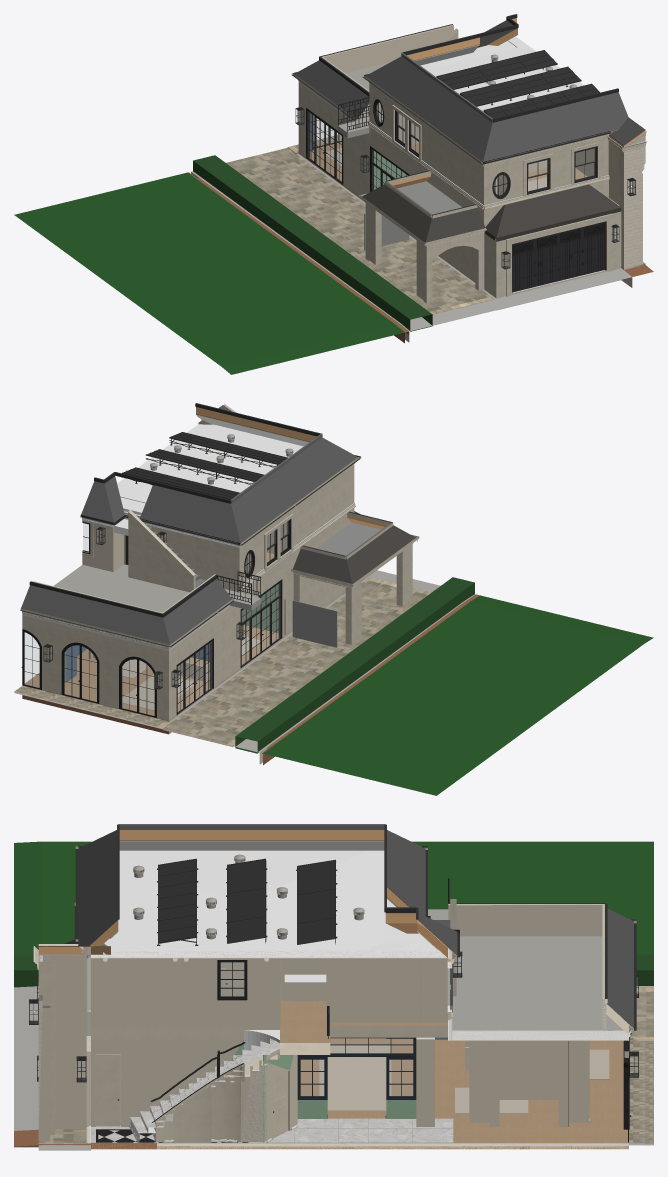
File: elevation-west-c9263cac64f2.glb
The picture shows the model from 3 angles, top to bottom: view 1: azimuth 30°, elevation 25°; view 2: azimuth 150°, elevation 25°; view 3: azimuth 270°, elevation 25°; orthographic projection. The views are drawn at different scales.
Visible parts, largest first — view 1: elevation-west-aee2d046b0172b1e, elevation-west-27d577fbd7f2ff4b, elevation-west-2d4e160723097ac3, elevation-west-25c3ff3929e46046, elevation-west-0cae3eb2f2d52fad, elevation-west-2f311b438f02a7c5, elevation-west-a9e726e5451ff895, elevation-west-8ae50a6395ceb8a4, elevation-west-312b4ac1be39223d, elevation-west-039192b0560cfac3, elevation-west-df3e1f21720b0c39, elevation-west-32021a86c784f0e0 (+27 smaller); view 2: elevation-west-aee2d046b0172b1e, elevation-west-27d577fbd7f2ff4b, elevation-west-2d4e160723097ac3, elevation-west-969b861f9850351e, elevation-west-0cae3eb2f2d52fad, elevation-west-d56ee2a9d54b1fc2, elevation-west-5febae1537653d02, elevation-west-312b4ac1be39223d, elevation-west-039192b0560cfac3, elevation-west-ded88bd99590d377, elevation-west-7511cdbc362aca5e, elevation-west-3b0077416469e01b (+29 smaller); view 3: elevation-west-aee2d046b0172b1e, elevation-west-d56ee2a9d54b1fc2, elevation-west-ded88bd99590d377, elevation-west-746250f96522f643, elevation-west-3b0077416469e01b, elevation-west-85f0fd939e0fcc78, elevation-west-7f59123d155b94ce, elevation-west-5e296beffb47d853, elevation-west-ed40dd465e6d599f, elevation-west-18b8f93424e26a44, elevation-west-2575515a05775d9e, elevation-west-871e2e831c6190fa (+51 smaller).
Part boxes in pixels (x1=…): elevation-west-aee2d046b0172b1e: x1=14, y1=172, x2=653, y2=374; elevation-west-27d577fbd7f2ff4b: x1=226, y1=148, x2=494, y2=314; elevation-west-2d4e160723097ac3: x1=193, y1=155, x2=432, y2=331; elevation-west-25c3ff3929e46046: x1=483, y1=92, x2=628, y2=161; elevation-west-0cae3eb2f2d52fad: x1=365, y1=56, x2=492, y2=161; elevation-west-2f311b438f02a7c5: x1=512, y1=221, x2=606, y2=292; elevation-west-a9e726e5451ff895: x1=496, y1=184, x2=621, y2=241; elevation-west-8ae50a6395ceb8a4: x1=191, y1=153, x2=632, y2=342; elevation-west-312b4ac1be39223d: x1=369, y1=83, x2=484, y2=204; elevation-west-039192b0560cfac3: x1=298, y1=83, x2=370, y2=195; elevation-west-df3e1f21720b0c39: x1=484, y1=136, x2=608, y2=205; elevation-west-32021a86c784f0e0: x1=322, y1=25, x2=453, y2=72; elevation-west-aee2d046b0172b1e: x1=22, y1=594, x2=653, y2=795; elevation-west-27d577fbd7f2ff4b: x1=163, y1=577, x2=431, y2=746; elevation-west-2d4e160723097ac3: x1=235, y1=577, x2=474, y2=753; elevation-west-969b861f9850351e: x1=22, y1=616, x2=165, y2=719; elevation-west-0cae3eb2f2d52fad: x1=231, y1=437, x2=357, y2=542; elevation-west-d56ee2a9d54b1fc2: x1=117, y1=424, x2=303, y2=503; elevation-west-5febae1537653d02: x1=21, y1=585, x2=169, y2=644; elevation-west-312b4ac1be39223d: x1=239, y1=464, x2=354, y2=586; elevation-west-039192b0560cfac3: x1=166, y1=606, x2=240, y2=720; elevation-west-ded88bd99590d377: x1=54, y1=564, x2=239, y2=612; elevation-west-7511cdbc362aca5e: x1=128, y1=510, x2=195, y2=592; elevation-west-3b0077416469e01b: x1=22, y1=636, x2=273, y2=721; elevation-west-aee2d046b0172b1e: x1=14, y1=841, x2=653, y2=1149; elevation-west-d56ee2a9d54b1fc2: x1=104, y1=850, x2=417, y2=949; elevation-west-ded88bd99590d377: x1=452, y1=936, x2=623, y2=1030; elevation-west-746250f96522f643: x1=91, y1=958, x2=280, y2=1027; elevation-west-3b0077416469e01b: x1=157, y1=1038, x2=628, y2=1143; elevation-west-85f0fd939e0fcc78: x1=91, y1=1039, x2=243, y2=1126; elevation-west-7f59123d155b94ce: x1=330, y1=958, x2=419, y2=1022; elevation-west-5e296beffb47d853: x1=55, y1=955, x2=86, y2=1129; elevation-west-ed40dd465e6d599f: x1=489, y1=1040, x2=567, y2=1126; elevation-west-18b8f93424e26a44: x1=448, y1=904, x2=604, y2=936; elevation-west-2575515a05775d9e: x1=91, y1=958, x2=330, y2=1054; elevation-west-871e2e831c6190fa: x1=319, y1=1045, x2=391, y2=1110.
Size of the model in its own units: 22.2 by 8.45 by 19.78.
Materials: 70 (19 with a texture image).
